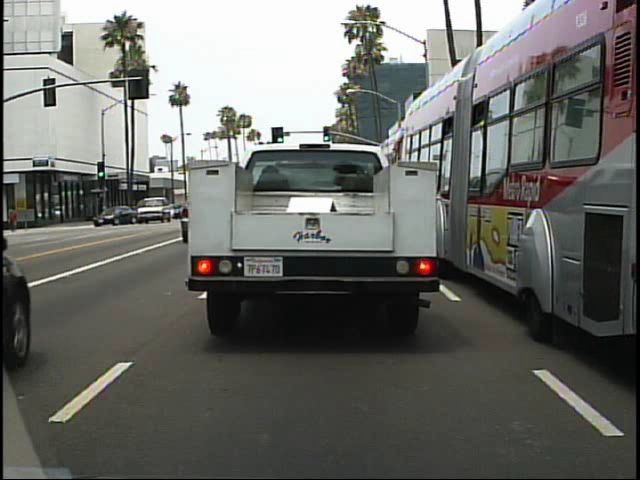person: (8, 205, 21, 235)
